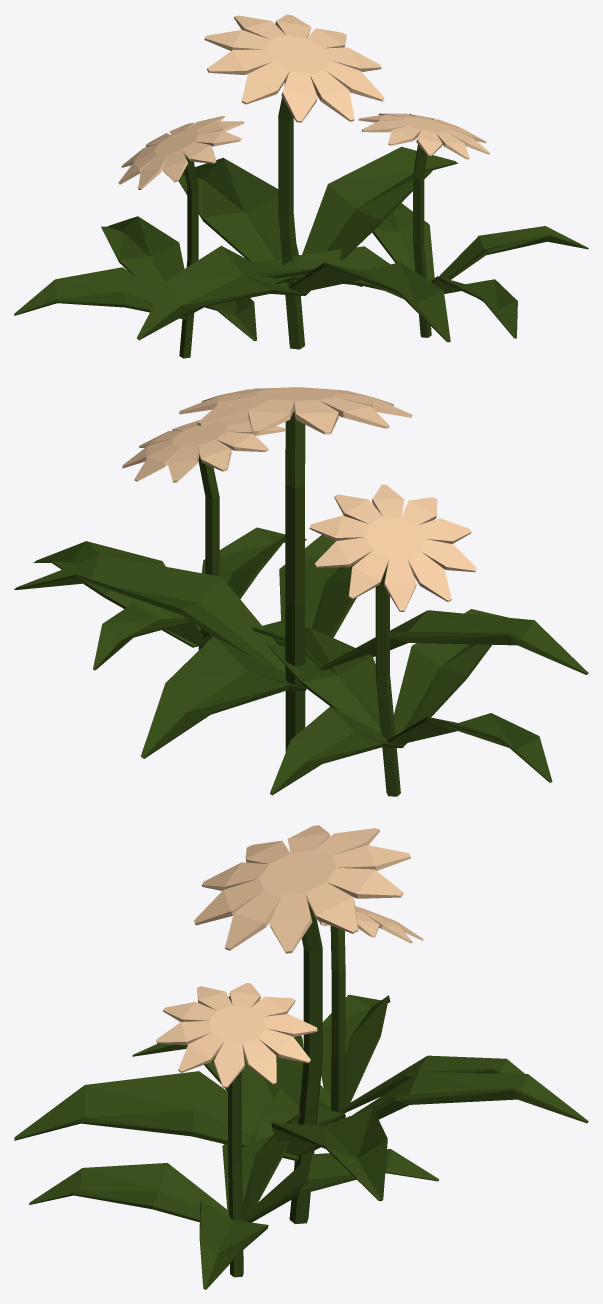
File: Flower_02.obj
The picture shows the model from 3 angles, top to bottom: view 1: azimuth 30°, elevation 25°; view 2: azimuth 150°, elevation 25°; view 3: azimuth 270°, elevation 25°; orthographic projection. The views are drawn at different scales.
Parts seen in each view (by area): view 1: Flower_02_Cube.001; view 2: Flower_02_Cube.001; view 3: Flower_02_Cube.001.
Part boxes in pixels (x1,y1,x2,y2): Flower_02_Cube.001: [14, 14, 588, 358]; Flower_02_Cube.001: [14, 387, 588, 796]; Flower_02_Cube.001: [14, 825, 588, 1289].
Size of the model in its own units: 2.02 by 1.17 by 1.69.
